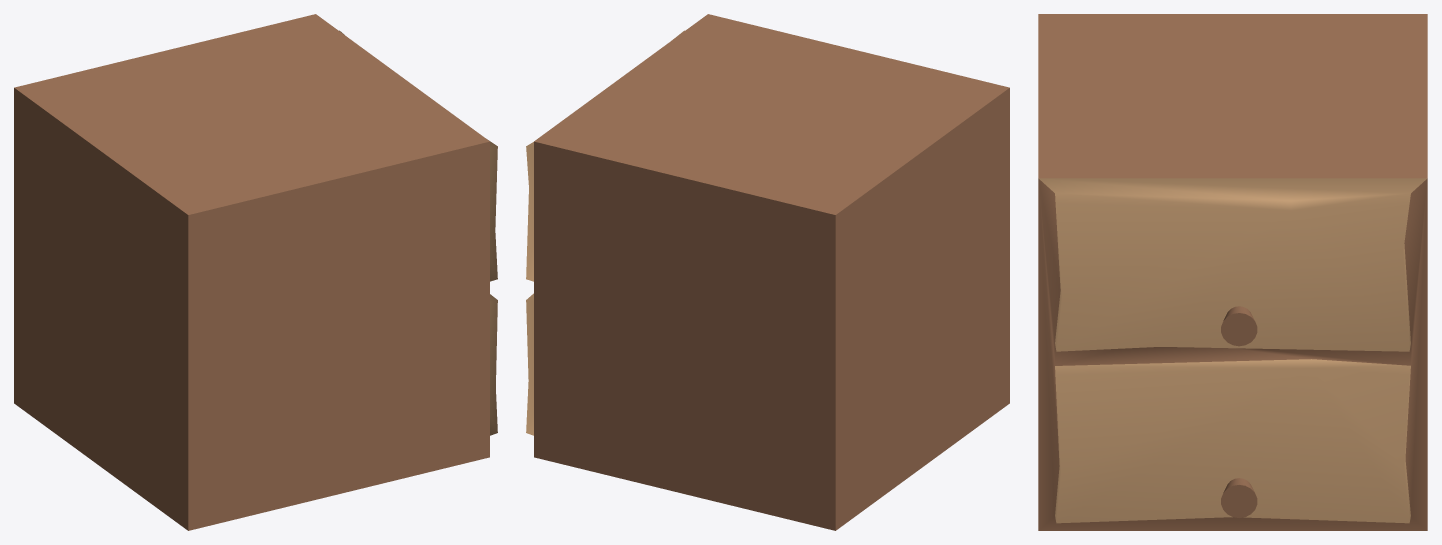
Rendered from Cabinet_Bottom_2.fbx.
The picture shows the model from 3 angles, left to right: view 1: azimuth 30°, elevation 25°; view 2: azimuth 150°, elevation 25°; view 3: azimuth 270°, elevation 25°; orthographic projection. The views are drawn at different scales.
Parts seen in each view (by area): view 1: pCube118; view 2: pCube118; view 3: pCube118, pCylinder7, pCylinder6.
Boxes of the visible parts, <box> form: pCube118: <box>14,14,497,530</box>; pCube118: <box>526,14,1009,530</box>; pCube118: <box>1038,14,1427,530</box>; pCylinder7: <box>1221,306,1257,346</box>; pCylinder6: <box>1221,478,1257,517</box>.
Bounding box in the file's own units: 1122 × 1000 × 1000.
